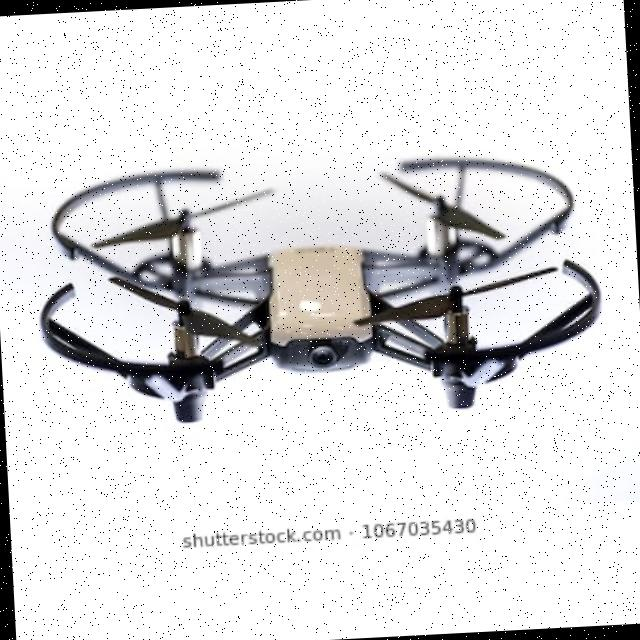Drones: (73, 138, 608, 452)
